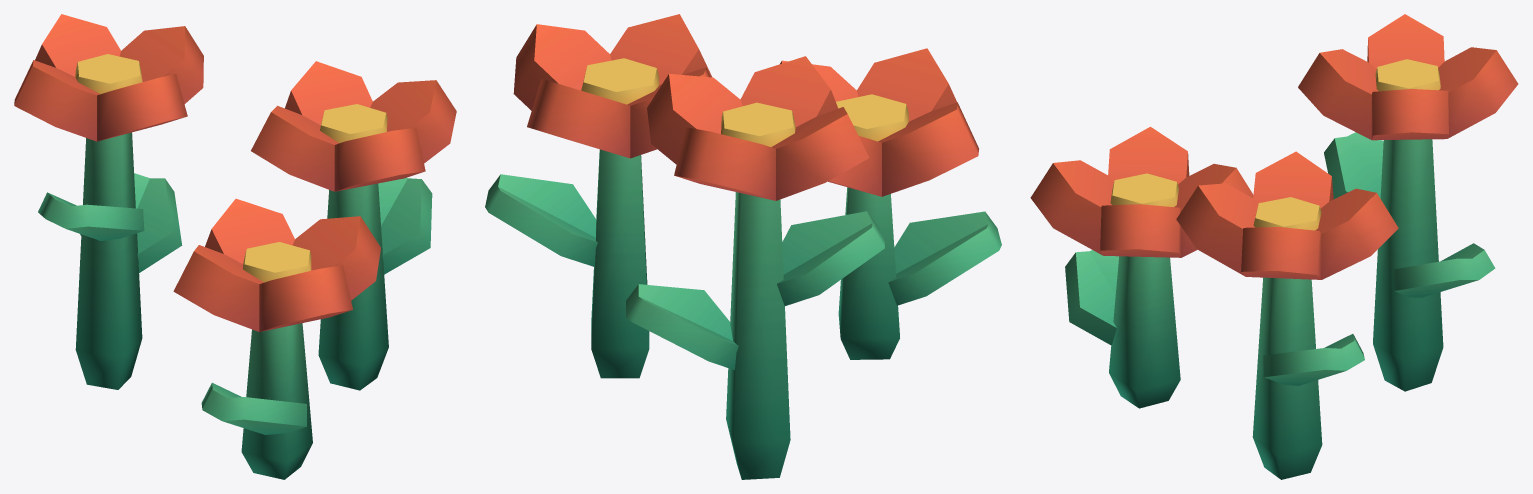
File: kenney-platformer-flowers-tall.glb
The picture shows the model from 3 angles, left to right: view 1: azimuth 30°, elevation 25°; view 2: azimuth 150°, elevation 25°; view 3: azimuth 270°, elevation 25°; orthographic projection. The views are drawn at different scales.
Parts seen in each view (by area): view 1: flowers-tall; view 2: flowers-tall; view 3: flowers-tall.
Boxes of the visible parts, <box> form: flowers-tall: <box>14,14,456,479</box>; flowers-tall: <box>485,14,1001,479</box>; flowers-tall: <box>1030,14,1518,479</box>.
Size of the model in its own units: 0.546 by 0.4616 by 0.6183.
Materials: 1 (1 with a texture image).
